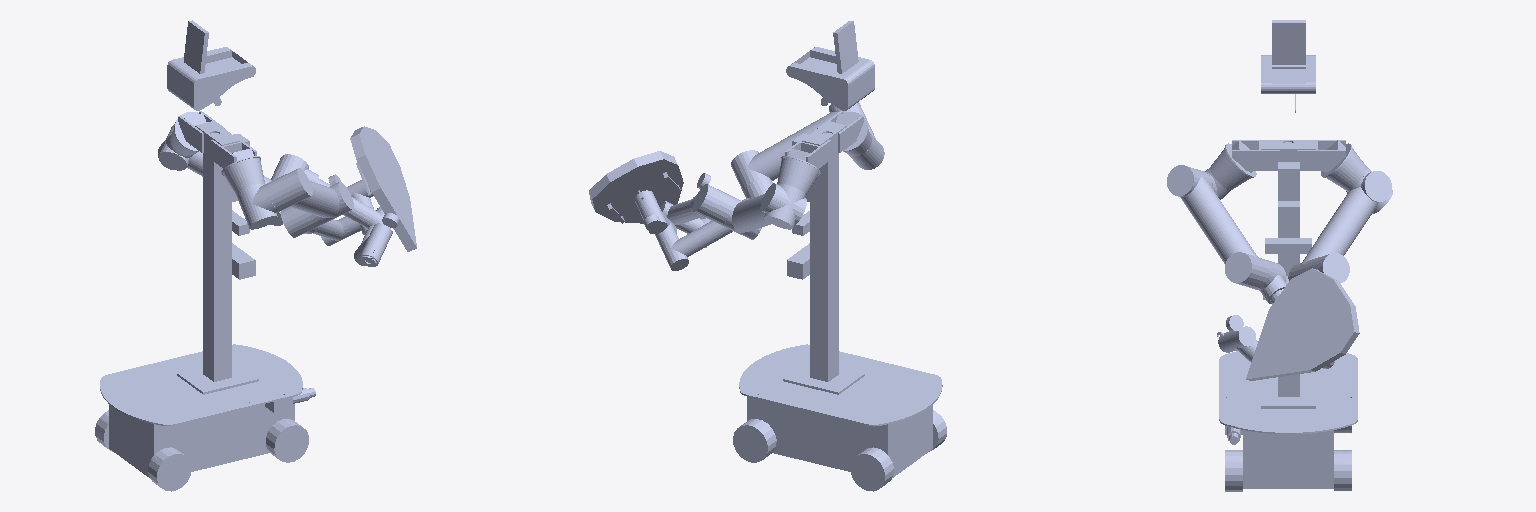
--- Render facts (derived) ---
The picture shows the robot from 3 angles, left to right: view 1: azimuth 30°, elevation 25°; view 2: azimuth 150°, elevation 25°; view 3: azimuth 270°, elevation 25°; orthographic projection.
Model Lowpoly_cholera_new_base_URDF_AVATRINA_ver3.0_ECE598_AddedCompon with 24 links and 23 joints (14 revolute, 9 fixed), rooted at base_link, posed every joint at zero.
Visible links, largest first — view 1: base_link, torso_link, head_neck2_link, right_shield_link, right_upperarm_link, right_forearm_link, left_forearm_link, right_shoulder_link, right_base_link, left_upperarm_link; view 2: base_link, torso_link, head_neck2_link, right_shield_link, right_upperarm_link, right_forearm_link, left_forearm_link, left_upperarm_link, left_shoulder_link, left_base_link, right_shoulder_link; view 3: base_link, right_shield_link, torso_link, right_upperarm_link, head_neck2_link, left_upperarm_link, right_base_link, left_base_link, left_forearm_link, right_forearm_link, left_wrist2_link, left_shoulder_link (+1 smaller).
Boxes of the visible links, <box> form: base_link: <box>95,344,315,491</box>; torso_link: <box>174,111,260,381</box>; head_neck2_link: <box>167,20,255,110</box>; right_shield_link: <box>350,126,416,251</box>; right_upperarm_link: <box>266,168,353,224</box>; right_forearm_link: <box>281,207,352,245</box>; left_forearm_link: <box>271,154,384,230</box>; right_shoulder_link: <box>236,184,279,229</box>; right_base_link: <box>223,158,264,194</box>; left_upperarm_link: <box>159,128,282,225</box>; base_link: <box>733,344,946,491</box>; torso_link: <box>781,111,867,381</box>; head_neck2_link: <box>786,21,874,110</box>; right_shield_link: <box>589,151,683,223</box>; right_upperarm_link: <box>731,102,868,192</box>; right_forearm_link: <box>660,179,772,270</box>; left_forearm_link: <box>660,184,734,230</box>; left_upperarm_link: <box>722,183,806,239</box>; left_shoulder_link: <box>760,184,805,229</box>; left_base_link: <box>777,158,818,194</box>; right_shoulder_link: <box>849,124,884,169</box>; base_link: <box>1219,351,1357,491</box>; right_shield_link: <box>1246,268,1359,380</box>; torso_link: <box>1225,140,1351,396</box>; right_upperarm_link: <box>1167,165,1269,288</box>; head_neck2_link: <box>1261,20,1315,112</box>; left_upperarm_link: <box>1288,171,1391,280</box>; right_base_link: <box>1210,148,1250,189</box>; left_base_link: <box>1326,148,1366,189</box>; left_forearm_link: <box>1307,253,1349,283</box>; right_forearm_link: <box>1255,259,1335,368</box>; left_wrist2_link: <box>1225,326,1256,355</box>; left_shoulder_link: <box>1346,167,1392,213</box>.
Bounding box of the posed robot: 1.35 × 0.8312 × 1.77 m (x, y, z).
Meshes: 24 distinct files referenced, 23 mesh visuals loaded (23 binary STL); not drawn: 1 (reference not matched to a file when rendering).

The robot description file, URDF, robot "Lowpoly_cholera_new_base_URDF_AVATRINA_ver3.0_ECE598_AddedCompon":
<?xml version="1.0" encoding="utf-8"?>
<!-- This URDF was automatically created by SolidWorks to URDF Exporter! Originally created by Stephen Brawner ([email redacted]) 
     Commit Version: 1.6.0-4-g7f85cfe  Build Version: 1.6.7995.38578
     For more information, please see http://wiki.ros.org/sw_urdf_exporter -->
<robot
  name="Lowpoly_cholera_new_base_URDF_AVATRINA_ver3.0_ECE598_AddedComponentShield">
  <link
    name="base_link">
    <inertial>
      <origin
        xyz="0.0025138917220647 -0.00170411083675209 0.153710907380027"
        rpy="0 0 0" />
      <mass
        value="59.8811399661577" />
      <inertia
        ixx="1.10042426118619"
        ixy="0.0250052547792936"
        ixz="-0.0114923035863779"
        iyy="2.41096861433946"
        iyz="0.00991259808770768"
        izz="2.78861592604086" />
    </inertial>
    <visual>
      <origin
        xyz="0 0 0"
        rpy="0 0 0" />
      <geometry>
        <mesh
          filename="./meshes/base_link.STL" />
      </geometry>
      <material
        name="">
        <color
          rgba="0.792156862745098 0.819607843137255 0.933333333333333 1" />
      </material>
    </visual>
    <collision>
      <origin
        xyz="0 0 0"
        rpy="0 0 0" />
      <geometry>
        <mesh
          filename="./meshes/base_link.STL" />
      </geometry>
    </collision>
  </link>
  <link
    name="torso_link">
    <inertial>
      <origin
        xyz="0.0134205873802285 8.32667268468867E-16 0.960815210847855"
        rpy="0 0 0" />
      <mass
        value="10.5458312658135" />
      <inertia
        ixx="0.431429458076167"
        ixy="5.37357701738128E-18"
        ixz="-5.05951327433657E-05"
        iyy="0.422733767839941"
        iyz="3.54290406635597E-17"
        izz="0.0190867379596107" />
    </inertial>
    <visual>
      <origin
        xyz="0 0 0"
        rpy="0 0 0" />
      <geometry>
        <mesh
          filename="./meshes/torso_link.STL" />
      </geometry>
      <material
        name="">
        <color
          rgba="0.792156862745098 0.819607843137255 0.933333333333333 1" />
      </material>
    </visual>
    <collision>
      <origin
        xyz="0 0 0"
        rpy="0 0 0" />
      <geometry>
        <mesh
          filename="./meshes/torso_link.STL" />
      </geometry>
    </collision>
  </link>
  <joint
    name="base_torso"
    type="fixed">
    <origin
      xyz="0.0682840549679995 0 -0.0328650000939976"
      rpy="0 0 0" />
    <parent
      link="base_link" />
    <child
      link="torso_link" />
    <axis
      xyz="0 0 0" />
  </joint>
  <link
    name="head_base_link">
    <inertial>
      <origin
        xyz="-1.66533453693773E-16 -4.44089209850063E-16 0.00249999999999995"
        rpy="0 0 0" />
      <mass
        value="0.0737168146928194" />
      <inertia
        ixx="0.000266191924833222"
        ixy="-4.75666075345556E-19"
        ixz="2.1940528301869E-20"
        iyy="4.10395599934384E-05"
        iyz="4.23072887465927E-20"
        izz="0.000306924331432107" />
    </inertial>
    <visual>
      <origin
        xyz="0 0 0"
        rpy="0 0 0" />
      <geometry>
        <mesh
          filename="./meshes/head_base_link.STL" />
      </geometry>
      <material
        name="">
        <color
          rgba="0.792156862745098 0.819607843137255 0.933333333333333 1" />
      </material>
    </visual>
    <collision>
      <origin
        xyz="0 0 0"
        rpy="0 0 0" />
      <geometry>
        <mesh
          filename="./meshes/head_base_link.STL" />
      </geometry>
    </collision>
  </link>
  <joint
    name="torso_head_base"
    type="fixed">
    <origin
      xyz="0.00110804311517892 0 1.339055"
      rpy="0 0 0" />
    <parent
      link="torso_link" />
    <child
      link="head_base_link" />
    <axis
      xyz="0 0 0" />
  </joint>
  <link
    name="head_neck1_link">
    <inertial>
      <origin
        xyz="-0.0171621976150749 -3.79645759274183E-11 0.0558163592976595"
        rpy="0 0 0" />
      <mass
        value="1.99424005579165" />
      <inertia
        ixx="0.00636307121414135"
        ixy="2.33314090726917E-11"
        ixz="0.000332134620334537"
        iyy="0.00611653738686079"
        iyz="8.99706067488631E-12"
        izz="0.00574807185042476" />
    </inertial>
    <visual>
      <origin
        xyz="0 0 0"
        rpy="0 0 0" />
      <geometry>
        <mesh
          filename="./meshes/head_neck1_link.STL" />
      </geometry>
      <material
        name="">
        <color
          rgba="0.792156862745098 0.819607843137255 0.933333333333333 1" />
      </material>
    </visual>
    <collision>
      <origin
        xyz="0 0 0"
        rpy="0 0 0" />
      <geometry>
        <mesh
          filename="./meshes/head_neck1_link.STL" />
      </geometry>
    </collision>
  </link>
  <joint
    name="head_base_neck1"
    type="revolute">
    <origin
      xyz="0 0 0.00499999999999989"
      rpy="0 0 0" />
    <parent
      link="head_base_link" />
    <child
      link="head_neck1_link" />
    <axis
      xyz="0 0 1" />
    <limit
      lower="-1.57"
      upper="1.57"
      effort="1"
      velocity="1" />
  </joint>
  <link
    name="head_neck2_link">
    <inertial>
      <origin
        xyz="0.117557233805506 0.0580913659504723 5.3786924775201E-07"
        rpy="0 0 0" />
      <mass
        value="3.69751206662782" />
      <inertia
        ixx="0.0314801888840978"
        ixy="0.00327810894331112"
        ixz="-1.06209334089752E-07"
        iyy="0.0191002061001758"
        iyz="3.21923976026431E-07"
        izz="0.0220138214594569" />
    </inertial>
    <visual>
      <origin
        xyz="0 0 0"
        rpy="0 0 0" />
      <geometry>
        <mesh
          filename="./meshes/head_neck2_link.STL" />
      </geometry>
      <material
        name="">
        <color
          rgba="0.792156862745098 0.819607843137255 0.933333333333333 1" />
      </material>
    </visual>
    <collision>
      <origin
        xyz="0 0 0"
        rpy="0 0 0" />
      <geometry>
        <mesh
          filename="./meshes/head_neck2_link.STL" />
      </geometry>
    </collision>
  </link>
  <joint
    name="head_neck1_neck2"
    type="revolute">
    <origin
      xyz="-0.0141080431151795 0 0.1378"
      rpy="1.5707963267949 -1.5707963267949 0" />
    <parent
      link="head_neck1_link" />
    <child
      link="head_neck2_link" />
    <axis
      xyz="0 0 -1" />
    <limit
      lower="-1.57"
      upper="0.785"
      effort="1"
      velocity="1" />
  </joint>
  <link
    name="left_base_link">
    <inertial>
      <origin
        xyz="0 1.11022302462516E-16 0.0452500167858338"
        rpy="0 0 0" />
      <mass
        value="1.39397162412901" />
      <inertia
        ixx="0.00271550342627118"
        ixy="-1.62630325872826E-19"
        ixz="-4.33680868994202E-19"
        iyy="0.00271550342627118"
        iyz="4.33680868994202E-19"
        izz="0.00319199166031868" />
    </inertial>
    <visual>
      <origin
        xyz="0 0 0"
        rpy="0 0 0" />
      <geometry>
        <mesh
          filename="./meshes/left_base_link.STL" />
      </geometry>
      <material
        name="">
        <color
          rgba="0.792156862745098 0.819607843137255 0.933333333333333 1" />
      </material>
    </visual>
    <collision>
      <origin
        xyz="0 0 0"
        rpy="0 0 0" />
      <geometry>
        <mesh
          filename="./meshes/left_base_link.STL" />
      </geometry>
    </collision>
  </link>
  <joint
    name="base_left_base"
    type="fixed">
    <origin
      xyz="0.0682840549679994 0.177248737341525 1.24386766943567"
      rpy="2.5261129449194 0.523598775598302 -2.52611294491941" />
    <parent
      link="base_link" />
    <child
      link="left_base_link" />
    <axis
      xyz="0 0 0" />
  </joint>
  <link
    name="left_shoulder_link">
    <inertial>
      <origin
        xyz="1.14297319275813E-07 0.00937261893288466 0.0670267729066091"
        rpy="0 0 0" />
      <mass
        value="1.69867696887764" />
      <inertia
        ixx="0.00442864599419339"
        ixy="-4.10104356702266E-09"
        ixz="2.87401707142233E-10"
        iyy="0.00390531713147106"
        iyz="5.69611570013186E-05"
        izz="0.0035600426008386" />
    </inertial>
    <visual>
      <origin
        xyz="0 0 0"
        rpy="0 0 0" />
      <geometry>
        <mesh
          filename="./meshes/left_shoulder_link.STL" />
      </geometry>
      <material
        name="">
        <color
          rgba="0.792156862745098 0.819607843137255 0.933333333333333 1" />
      </material>
    </visual>
    <collision>
      <origin
        xyz="0 0 0"
        rpy="0 0 0" />
      <geometry>
        <mesh
          filename="./meshes/left_shoulder_link.STL" />
      </geometry>
    </collision>
  </link>
  <joint
    name="left_base_shoulder"
    type="revolute">
    <origin
      xyz="0 0 0.0990600000000001"
      rpy="0 0 1.5707963267949" />
    <parent
      link="left_base_link" />
    <child
      link="left_shoulder_link" />
    <axis
      xyz="0 0 -1" />
    <limit
      lower="-6.28"
      upper="6.28"
      effort="150"
      velocity="3.33" />
  </joint>
  <link
    name="left_upperarm_link">
    <inertial>
      <origin
        xyz="1.35809636314654E-07 0.212500030104974 0.0653493983179754"
        rpy="0 0 0" />
      <mass
        value="6.31285273346303" />
      <inertia
        ixx="0.16990036349023"
        ixy="8.61179154246564E-09"
        ixz="3.01509572191161E-07"
        iyy="0.0127291856529223"
        iyz="-4.74484105434866E-10"
        izz="0.168139675767775" />
    </inertial>
    <visual>
      <origin
        xyz="0 0 0"
        rpy="0 0 0" />
      <geometry>
        <mesh
          filename="./meshes/left_upperarm_link.STL" />
      </geometry>
      <material
        name="">
        <color
          rgba="0.792156862745098 0.819607843137255 0.933333333333333 1" />
      </material>
    </visual>
    <collision>
      <origin
        xyz="0 0 0"
        rpy="0 0 0" />
      <geometry>
        <mesh
          filename="./meshes/left_upperarm_link.STL" />
      </geometry>
    </collision>
  </link>
  <joint
    name="left_shoulder_upperarm"
    type="revolute">
    <origin
      xyz="0 0.0743999999999994 0.0634490000000004"
      rpy="1.5707963267949 -1.5707963267949 0" />
    <parent
      link="left_shoulder_link" />
    <child
      link="left_upperarm_link" />
    <axis
      xyz="0 0 1" />
    <limit
      lower="-6.28"
      upper="6.28"
      effort="150"
      velocity="3.33" />
  </joint>
  <link
    name="left_forearm_link">
    <inertial>
      <origin
        xyz="-7.44991925927252E-08 0.150537145068109 0.0641679811020659"
        rpy="0 0 0" />
      <mass
        value="3.18874318974123" />
      <inertia
        ixx="0.0756021338545848"
        ixy="-1.64883032726347E-08"
        ixz="6.14346224933615E-10"
        iyy="0.00433469541115749"
        iyz="-0.00195295037223336"
        izz="0.0749130409918155" />
    </inertial>
    <visual>
      <origin
        xyz="0 0 0"
        rpy="0 0 0" />
      <geometry>
        <mesh
          filename="./meshes/left_forearm_link.STL" />
      </geometry>
      <material
        name="">
        <color
          rgba="0.792156862745098 0.819607843137255 0.933333333333333 1" />
      </material>
    </visual>
    <collision>
      <origin
        xyz="0 0 0"
        rpy="0 0 0" />
      <geometry>
        <mesh
          filename="./meshes/left_forearm_link.STL" />
      </geometry>
    </collision>
  </link>
  <joint
    name="left_upperarm_forearm"
    type="revolute">
    <origin
      xyz="0 0.425 0"
      rpy="3.14159265358979 0 3.14159265358979" />
    <parent
      link="left_upperarm_link" />
    <child
      link="left_forearm_link" />
    <axis
      xyz="0 0 -1" />
    <limit
      lower="-6.28"
      upper="6.28"
      effort="28"
      velocity="3.33" />
  </joint>
  <link
    name="left_wrist1_link">
    <inertial>
      <origin
        xyz="-6.79008422821425E-08 -0.00349488600556436 0.0580237753952952"
        rpy="0 0 0" />
      <mass
        value="0.63356209986502" />
      <inertia
        ixx="0.000995073092670701"
        ixy="1.98275427326644E-10"
        ixz="-3.86408430778787E-10"
        iyy="0.000769001925832068"
        iyz="3.28288005460469E-05"
        izz="0.000691326411605404" />
    </inertial>
    <visual>
      <origin
        xyz="0 0 0"
        rpy="0 0 0" />
      <geometry>
        <mesh
          filename="./meshes/left_wrist1_link.STL" />
      </geometry>
      <material
        name="">
        <color
          rgba="0.792156862745098 0.819607843137255 0.933333333333333 1" />
      </material>
    </visual>
    <collision>
      <origin
        xyz="0 0 0"
        rpy="0 0 0" />
      <geometry>
        <mesh
          filename="./meshes/left_wrist1_link.STL" />
      </geometry>
    </collision>
  </link>
  <joint
    name="left_forearm_wrist1"
    type="revolute">
    <origin
      xyz="0 0.39225 0.0139500000000006"
      rpy="-3.14159265358979 0 1.5707963267949" />
    <parent
      link="left_forearm_link" />
    <child
      link="left_wrist1_link" />
    <axis
      xyz="0 0 -1" />
    <limit
      lower="-6.28"
      upper="6.28"
      effort="28"
      velocity="3.33" />
  </joint>
  <link
    name="left_wrist2_link">
    <inertial>
      <origin
        xyz="1.12157481080288E-08 -0.00401808934819181 0.0461487186768794"
        rpy="0 0 0" />
      <mass
        value="0.547369084917851" />
      <inertia
        ixx="0.000728213840607296"
        ixy="-4.19945232220712E-11"
        ixz="8.88611994181781E-11"
        iyy="0.000503983489914327"
        iyz="1.59481903299775E-05"
        izz="0.000628884098642881" />
    </inertial>
    <visual>
      <origin
        xyz="0 0 0"
        rpy="0 0 0" />
      <geometry>
        <mesh
          filename="./meshes/left_wrist2_link.STL" />
      </geometry>
      <material
        name="">
        <color
          rgba="0.792156862745098 0.819607843137255 0.933333333333333 1" />
      </material>
    </visual>
    <collision>
      <origin
        xyz="0 0 0"
        rpy="0 0 0" />
      <geometry>
        <mesh
          filename="./meshes/left_wrist2_link.STL" />
      </geometry>
    </collision>
  </link>
  <joint
    name="left_wrist1_wrist2"
    type="revolute">
    <origin
      xyz="0 0.0462999999999991 0.0728500000000001"
      rpy="1.5707963267949 0 3.14159265358979" />
    <parent
      link="left_wrist1_link" />
    <child
      link="left_wrist2_link" />
    <axis
      xyz="0 0 -1" />
    <limit
      lower="-6.28"
      upper="6.28"
      effort="28"
      velocity="3.33" />
  </joint>
  <link
    name="left_EE_link">
    <inertial>
      <origin
        xyz="-1.51146339888442E-09 0.000469330753138597 0.0254781327288542"
        rpy="0 0 0" />
      <mass
        value="0.226303924785541" />
      <inertia
        ixx="0.00013178028696949"
        ixy="1.01819334451107E-11"
        ixz="-1.15641831099087E-12"
        iyy="0.000126852459091633"
        iyz="-3.72245390676982E-07"
        izz="0.000160104333858935" />
    </inertial>
    <visual>
      <origin
        xyz="0 0 0"
        rpy="0 0 0" />
      <geometry>
        <mesh
          filename="./meshes/left_EE_link.STL" />
      </geometry>
      <material
        name="">
        <color
          rgba="0.792156862745098 0.819607843137255 0.933333333333333 1" />
      </material>
    </visual>
    <collision>
      <origin
        xyz="0 0 0"
        rpy="0 0 0" />
      <geometry>
        <mesh
          filename="./meshes/left_EE_link.STL" />
      </geometry>
    </collision>
  </link>
  <joint
    name="left_wrist2_EE"
    type="revolute">
    <origin
      xyz="0 0.0463000000000002 0.0534000000000001"
      rpy="1.5707963267949 0 3.14159265358979" />
    <parent
      link="left_wrist2_link" />
    <child
      link="left_EE_link" />
    <axis
      xyz="0 0 -1" />
    <limit
      lower="-6.28"
      upper="6.28"
      effort="28"
      velocity="3.33" />
  </joint>
  <link
    name="left_tool_link">
    <inertial>
      <origin
        xyz="-0.000499999999999945 0 -5.55111512312578E-16"
        rpy="0 0 0" />
      <mass
        value="2.49999999999997E-05" />
      <inertia
        ixx="1.04166666666665E-10"
        ixy="-1.7771458472819E-26"
        ixz="1.13091099372484E-25"
        iyy="5.4166666666664E-11"
        iyz="-8.25565025419135E-25"
        izz="5.41666666666675E-11" />
    </inertial>
    <visual>
      <origin
        xyz="0 0 0"
        rpy="0 0 0" />
      <geometry>
        <mesh
          filename="./meshes/left_tool_link.STL" />
      </geometry>
      <material
        name="">
        <color
          rgba="0.792156862745098 0.819607843137255 0.933333333333333 1" />
      </material>
    </visual>
    <collision>
      <origin
        xyz="0 0 0"
        rpy="0 0 0" />
      <geometry>
        <mesh
          filename="./meshes/left_tool_link.STL" />
      </geometry>
    </collision>
  </link>
  <joint
    name="left_EE_tool"
    type="fixed">
    <origin
      xyz="0 0 0.0533000000000003"
      rpy="1.5707963267949 -1.5707963267949 0" />
    <parent
      link="left_EE_link" />
    <child
      link="left_tool_link" />
    <axis
      xyz="0 0 0" />
  </joint>
  <link
    name="left_wrist2_camera_link">
    <inertial>
      <origin
        xyz="-2.22044604925031E-16 0.0716935987989149 -0.00635000000000008"
        rpy="0 0 0" />
      <mass
        value="0.07549040710943" />
      <inertia
        ixx="2.14881616185536E-05"
        ixy="1.27054942088145E-21"
        ixz="-5.9292306307801E-21"
        iyy="2.191482174861E-05"
        iyz="-7.6232965252887E-21"
        izz="3.48977308328346E-05" />
    </inertial>
    <visual>
      <origin
        xyz="0 0 0"
        rpy="0 0 0" />
      <geometry>
        <mesh
          filename="./meshes/left_wrist2_camera_link.STL" />
      </geometry>
      <material
        name="">
        <color
          rgba="0.792156862745098 0.819607843137255 0.933333333333333 1" />
      </material>
    </visual>
    <collision>
      <origin
        xyz="0 0 0"
        rpy="0 0 0" />
      <geometry>
        <mesh
          filename="./meshes/left_wrist2_camera_link.STL" />
      </geometry>
    </collision>
  </link>
  <joint
    name="left_wrist2_camera"
    type="fixed">
    <origin
      xyz="0 -0.0583299999999995 0.0534000000000005"
      rpy="1.5707963267949 0 3.14159265358979" />
    <parent
      link="left_wrist2_link" />
    <child
      link="left_wrist2_camera_link" />
    <axis
      xyz="0 0 0" />
  </joint>
  <link
    name="right_base_link">
    <inertial>
      <origin
        xyz="2.22044604925031E-16 0 0.0452500167858341"
        rpy="0 0 0" />
      <mass
        value="1.39397162412901" />
      <inertia
        ixx="0.00271550342627118"
        ixy="-1.0842021724855E-19"
        ixz="3.79470760369927E-19"
        iyy="0.00271550342627118"
        iyz="3.25260651745651E-19"
        izz="0.00319199166031868" />
    </inertial>
    <visual>
      <origin
        xyz="0 0 0"
        rpy="0 0 0" />
      <geometry>
        <mesh
          filename="./meshes/right_base_link.STL" />
      </geometry>
      <material
        name="">
        <color
          rgba="0.792156862745098 0.819607843137255 0.933333333333333 1" />
      </material>
    </visual>
    <collision>
      <origin
        xyz="0 0 0"
        rpy="0 0 0" />
      <geometry>
        <mesh
          filename="./meshes/right_base_link.STL" />
      </geometry>
    </collision>
  </link>
  <joint
    name="base_right_base"
    type="fixed">
    <origin
      xyz="0.0682840549679992 -0.177248737341533 1.24386766943567"
      rpy="-2.52611294491941 0.523598775598295 2.52611294491941" />
    <parent
      link="base_link" />
    <child
      link="right_base_link" />
    <axis
      xyz="0 0 0" />
  </joint>
  <link
    name="right_shoulder_link">
    <inertial>
      <origin
        xyz="1.5130661772278E-05 0.00937262932033167 0.0670267917081414"
        rpy="0 0 0" />
      <mass
        value="1.69867711391749" />
      <inertia
        ixx="0.00442865037959082"
        ixy="1.79699203129531E-08"
        ixz="-1.97665668981483E-07"
        iyy="0.00390531752644237"
        iyz="5.69595475776794E-05"
        izz="0.00356004026239241" />
    </inertial>
    <visual>
      <origin
        xyz="0 0 0"
        rpy="0 0 0" />
      <geometry>
        <mesh
          filename="./meshes/right_shoulder_link.STL" />
      </geometry>
      <material
        name="">
        <color
          rgba="0.792156862745098 0.819607843137255 0.933333333333333 1" />
      </material>
    </visual>
    <collision>
      <origin
        xyz="0 0 0"
        rpy="0 0 0" />
      <geometry>
        <mesh
          filename="./meshes/right_shoulder_link.STL" />
      </geometry>
    </collision>
  </link>
  <joint
    name="right_base_shoulder"
    type="revolute">
    <origin
      xyz="0 0 0.0990600000000001"
      rpy="0 -0.000227291627930162 1.5707963267949" />
    <parent
      link="right_base_link" />
    <child
      link="right_shoulder_link" />
    <axis
      xyz="0 0 -1" />
    <limit
      lower="-6.28"
      upper="6.28"
      effort="150"
      velocity="3.33" />
  </joint>
  <link
    name="right_upperarm_link">
    <inertial>
      <origin
        xyz="-1.35809636314654E-07 0.212499969895026 0.0653493983179749"
        rpy="0 0 0" />
      <mass
        value="6.31285273346302" />
      <inertia
        ixx="0.16990036349023"
        ixy="8.61179152728681E-09"
        ixz="-3.015095721981E-07"
        iyy="0.0127291856529223"
        iyz="4.74484085051866E-10"
        izz="0.168139675767775" />
    </inertial>
    <visual>
      <origin
        xyz="0 0 0"
        rpy="0 0 0" />
      <geometry>
        <mesh
          filename="./meshes/right_upperarm_link.STL" />
      </geometry>
      <material
        name="">
        <color
          rgba="0.792156862745098 0.819607843137255 0.933333333333333 1" />
      </material>
    </visual>
    <collision>
      <origin
        xyz="0 0 0"
        rpy="0 0 0" />
      <geometry>
        <mesh
          filename="./meshes/right_upperarm_link.STL" />
      </geometry>
    </collision>
  </link>
  <joint
    name="right_shoulder_upperarm"
    type="revolute">
    <origin
      xyz="1.44214263771425E-05 0.0743999999999995 0.063448998361065"
      rpy="-1.5707963267927 -1.57056903516778 0" />
    <parent
      link="right_shoulder_link" />
    <child
      link="right_upperarm_link" />
    <axis
      xyz="0 0 1" />
    <limit
      lower="-6.28"
      upper="6.28"
      effort="150"
      velocity="28" />
  </joint>
  <link
    name="right_forearm_link">
    <inertial>
      <origin
        xyz="-6.88234000900678E-08 0.150537145210714 0.0641679259977745"
        rpy="0 0 0" />
      <mass
        value="3.18874323055421" />
      <inertia
        ixx="0.0756018393308706"
        ixy="-9.23950091950431E-08"
        ixz="-2.6506829771053E-08"
        iyy="0.00433460742981963"
        iyz="-0.00195295573135471"
        izz="0.0749126070237331" />
    </inertial>
    <visual>
      <origin
        xyz="0 0 0"
        rpy="0 0 0" />
      <geometry>
        <mesh
          filename="./meshes/right_forearm_link.STL" />
      </geometry>
      <material
        name="">
        <color
          rgba="0.792156862745098 0.819607843137255 0.933333333333333 1" />
      </material>
    </visual>
    <collision>
      <origin
        xyz="0 0 0"
        rpy="0 0 0" />
      <geometry>
        <mesh
          filename="./meshes/right_forearm_link.STL" />
      </geometry>
    </collision>
  </link>
  <joint
    name="right_upperarm_forearm"
    type="revolute">
    <origin
      xyz="0 0.425 0"
      rpy="3.14159265358979 0 -3.14159265358979" />
    <parent
      link="right_upperarm_link" />
    <child
      link="right_forearm_link" />
    <axis
      xyz="0 0 1" />
    <limit
      lower="-6.28"
      upper="6.28"
      effort="28"
      velocity="3.33" />
  </joint>
  <link
    name="right_wrist1_link">
    <inertial>
      <origin
        xyz="6.90914475631743E-08 -0.00349490925940388 0.058023776068165"
        rpy="0 0 0" />
      <mass
        value="0.633562086796879" />
      <inertia
        ixx="0.000995072942241236"
        ixy="-1.48590563491717E-10"
        ixz="4.36373581651326E-10"
        iyy="0.000769001946471978"
        iyz="3.28284789390375E-05"
        izz="0.00069132635342523" />
    </inertial>
    <visual>
      <origin
        xyz="0 0 0"
        rpy="0 0 0" />
      <geometry>
        <mesh
          filename="./meshes/right_wrist1_link.STL" />
      </geometry>
      <material
        name="">
        <color
          rgba="0.792156862745098 0.819607843137255 0.933333333333333 1" />
      </material>
    </visual>
    <collision>
      <origin
        xyz="0 0 0"
        rpy="0 0 0" />
      <geometry>
        <mesh
          filename="./meshes/right_wrist1_link.STL" />
      </geometry>
    </collision>
  </link>
  <joint
    name="right_forearm_wrist1"
    type="revolute">
    <origin
      xyz="0 0.39225 0.0139500000000001"
      rpy="3.14159265358979 0 1.57079632679491" />
    <parent
      link="right_forearm_link" />
    <child
      link="right_wrist1_link" />
    <axis
      xyz="0 0 -1" />
    <limit
      lower="-6.28"
      upper="6.28"
      effort="28"
      velocity="3.33" />
  </joint>
  <link
    name="right_wrist2_link">
    <inertial>
      <origin
        xyz="-8.35234270635254E-09 -0.004018089370732 0.0461487186816052"
        rpy="0 0 0" />
      <mass
        value="0.547369083405585" />
      <inertia
        ixx="0.000728213843703612"
        ixy="-2.77103618100561E-12"
        ixz="-4.36601663026184E-11"
        iyy="0.000503983489439202"
        iyz="1.59481907904133E-05"
        izz="0.000628884093065119" />
    </inertial>
    <visual>
      <origin
        xyz="0 0 0"
        rpy="0 0 0" />
      <geometry>
        <mesh
          filename="./meshes/right_wrist2_link.STL" />
      </geometry>
      <material
        name="">
        <color
          rgba="0.792156862745098 0.819607843137255 0.933333333333333 1" />
      </material>
    </visual>
    <collision>
      <origin
        xyz="0 0 0"
        rpy="0 0 0" />
      <geometry>
        <mesh
          filename="./meshes/right_wrist2_link.STL" />
      </geometry>
    </collision>
  </link>
  <joint
    name="right_wrist1_wrist2"
    type="revolute">
    <origin
      xyz="0 0.0463 0.0728500000000001"
      rpy="1.5707963267949 0 3.14159265358979" />
    <parent
      link="right_wrist1_link" />
    <child
      link="right_wrist2_link" />
    <axis
      xyz="0 0 -1" />
    <limit
      lower="-6.28"
      upper="6.28"
      effort="28"
      velocity="3.33" />
  </joint>
  <link
    name="right_EE_link">
    <inertial>
      <origin
        xyz="-1.0910551495602E-07 0.000469331511707249 0.0254781326274035"
        rpy="0 0 0" />
      <mass
        value="0.226303929757806" />
      <inertia
        ixx="0.000131780293033956"
        ixy="1.1346246987269E-09"
        ixz="8.30939517090486E-11"
        iyy="0.000126852459976797"
        iyz="-3.72244556244615E-07"
        izz="0.00016010434115452" />
    </inertial>
    <visual>
      <origin
        xyz="0 0 0"
        rpy="0 0 0" />
      <geometry>
        <mesh
          filename="./meshes/right_EE_link.STL" />
      </geometry>
      <material
        name="">
        <color
          rgba="0.792156862745098 0.819607843137255 0.933333333333333 1" />
      </material>
    </visual>
    <collision>
      <origin
        xyz="0 0 0"
        rpy="0 0 0" />
      <geometry>
        <mesh
          filename="./meshes/right_EE_link.STL" />
      </geometry>
    </collision>
  </link>
  <joint
    name="right_wrist2_EE"
    type="revolute">
    <origin
      xyz="0 0.0462999999999997 0.0534000000000001"
      rpy="1.5707963267949 0.000227291627932216 3.14159265358979" />
    <parent
      link="right_wrist2_link" />
    <child
      link="right_EE_link" />
    <axis
      xyz="0 0 -1" />
    <limit
      lower="-6.28"
      upper="6.28"
      effort="28"
      velocity="3.33" />
  </joint>
  <link
    name="right_tool_link">
    <inertial>
      <origin
        xyz="-0.000499999999999723 -1.11022302462516E-16 2.22044604925031E-16"
        rpy="0 0 0" />
      <mass
        value="2.49999999999991E-05" />
      <inertia
        ixx="1.04166666666663E-10"
        ixy="-7.35092145921148E-26"
        ixz="1.71252236192619E-25"
        iyy="5.41666666666644E-11"
        iyz="7.90022108473497E-25"
        izz="5.41666666666649E-11" />
    </inertial>
    <visual>
      <origin
        xyz="0 0 0"
        rpy="0 0 0" />
      <geometry>
        <mesh
          filename="./meshes/right_tool_link.STL" />
      </geometry>
      <material
        name="">
        <color
          rgba="0.792156862745098 0.819607843137255 0.933333333333333 1" />
      </material>
    </visual>
    <collision>
      <origin
        xyz="0 0 0"
        rpy="0 0 0" />
      <geometry>
        <mesh
          filename="./meshes/right_tool_link.STL" />
      </geometry>
    </collision>
  </link>
  <joint
    name="right_EE_tool"
    type="fixed">
    <origin
      xyz="0 0 0.0533"
      rpy="1.57056903516696 -1.5707963267949 0" />
    <parent
      link="right_EE_link" />
    <child
      link="right_tool_link" />
    <axis
      xyz="0 0 0" />
  </joint>
  <link
    name="right_shield_link">
    <inertial>
      <origin
        xyz="-9.12483098303163E-07 0.0040145916994494 0.0195040519296694"
        rpy="0 0 0" />
      <mass
        value="4.83077362721813" />
      <inertia
        ixx="0.0641555151460058"
        ixy="6.41449961628123E-06"
        ixz="1.17292308504657E-09"
        iyy="0.0359340657560706"
        iyz="-5.16043230688271E-06"
        izz="0.0986646436481846" />
    </inertial>
    <visual>
      <origin
        xyz="0 0 0"
        rpy="0 0 0" />
      <geometry>
        <mesh
          filename="./meshes/right_shield_link.STL" />
      </geometry>
      <material
        name="">
        <color
          rgba="0.792156862745098 0.819607843137255 0.933333333333333 1" />
      </material>
    </visual>
    <collision>
      <origin
        xyz="0 0 0"
        rpy="0 0 0" />
      <geometry>
        <mesh
          filename="./meshes/right_shield_link.STL" />
      </geometry>
    </collision>
  </link>
  <joint
    name="right_tool_shield"
    type="fixed">
    <origin
      xyz="0 0 0"
      rpy="-1.5707963267949 -0.000227291627932216 -1.5707963267949" />
    <parent
      link="right_tool_link" />
    <child
      link="right_shield_link" />
    <axis
      xyz="0 0 0" />
  </joint>
  <link
    name="right_wrist2_camera_link">
    <inertial>
      <origin
        xyz="0 0.0716935987989153 0.00634999999999997"
        rpy="0 0 0" />
      <mass
        value="0.0754904071094299" />
      <inertia
        ixx="2.14881616185537E-05"
        ixy="-4.2351647362715E-22"
        ixz="2.96461531539005E-21"
        iyy="2.191482174861E-05"
        iyz="-4.2351647362715E-21"
        izz="3.48977308328345E-05" />
    </inertial>
    <visual>
      <origin
        xyz="0 0 0"
        rpy="0 0 0" />
      <geometry>
        <mesh
          filename="../meshes/right_wrist2_camera_link.STL" />
      </geometry>
      <material
        name="">
        <color
          rgba="0.792156862745098 0.819607843137255 0.933333333333333 1" />
      </material>
    </visual>
    <collision>
      <origin
        xyz="0 0 0"
        rpy="0 0 0" />
      <geometry>
        <mesh
          filename="../meshes/right_wrist2_camera_link.STL" />
      </geometry>
    </collision>
  </link>
  <joint
    name="right_wrist2_camera"
    type="fixed">
    <origin
      xyz="0 -0.0583300000000002 0.0533999999999999"
      rpy="1.5707963267949 0 0" />
    <parent
      link="right_wrist2_link" />
    <child
      link="right_wrist2_camera_link" />
    <axis
      xyz="0 0 0" />
  </joint>
</robot>
